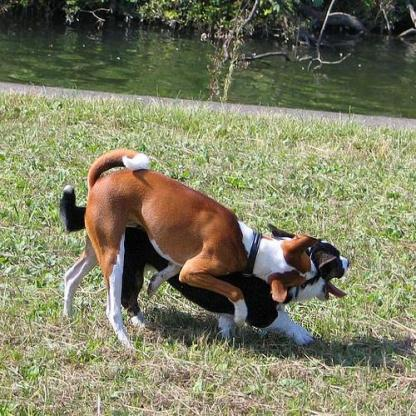basenji: (61, 145, 318, 351), (58, 184, 350, 346)
